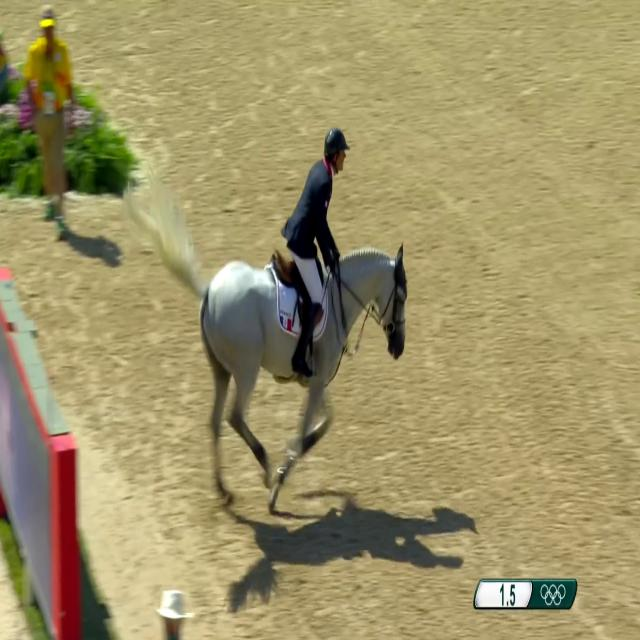Horse Rider: (272, 60, 348, 399)
Horse Running: (183, 236, 426, 530)
